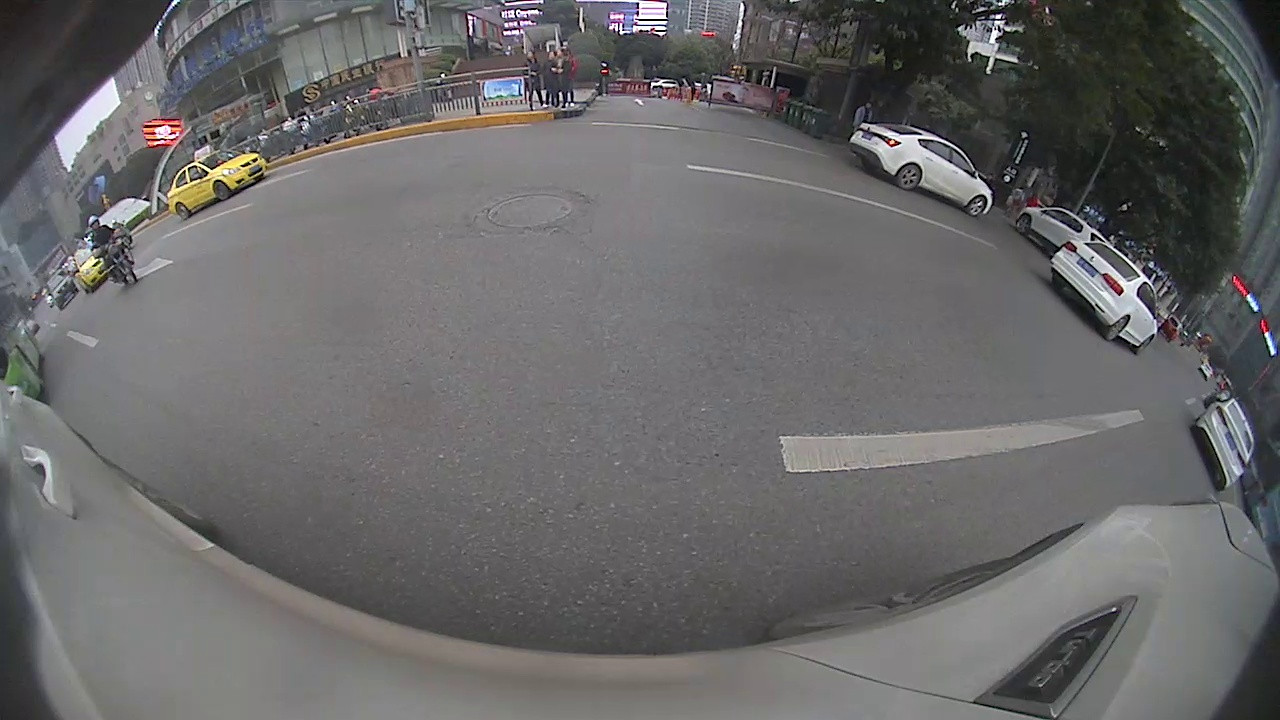car: (846, 120, 995, 220), (1046, 239, 1160, 355), (163, 141, 271, 221), (1189, 394, 1258, 493), (1013, 203, 1115, 260)
front: (967, 196, 990, 218), (1012, 213, 1034, 236), (212, 180, 230, 202)
person: (556, 49, 568, 109)
rear: (894, 164, 922, 192), (1106, 314, 1131, 342), (174, 204, 192, 221)
rider: (81, 213, 144, 289)
